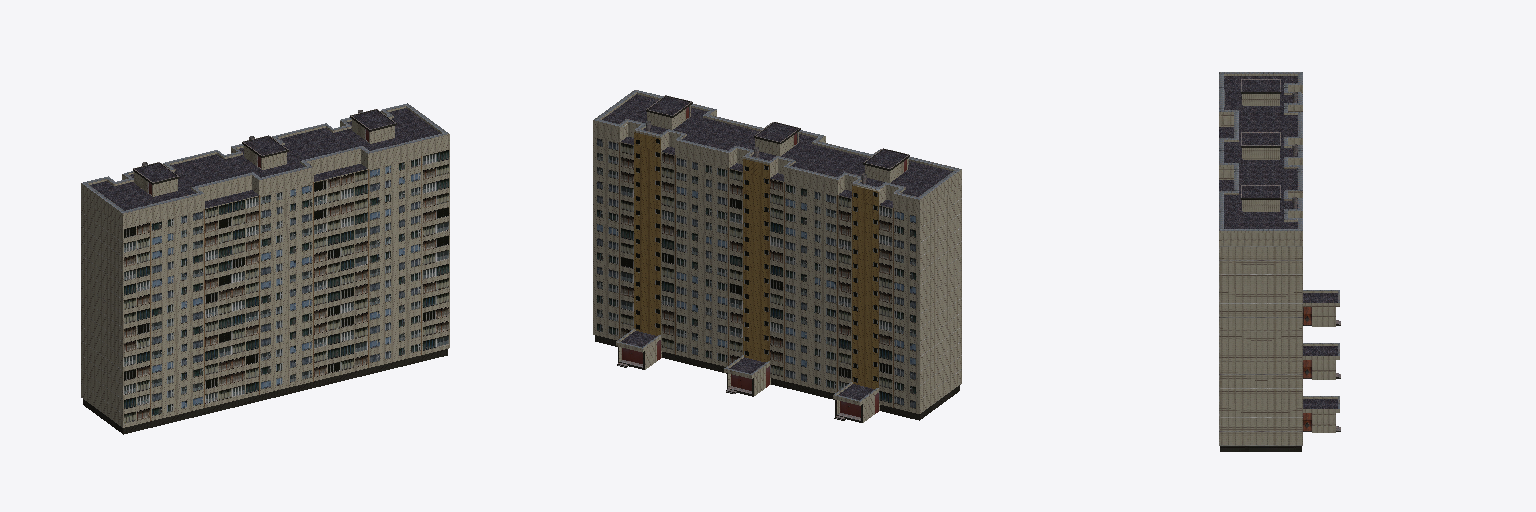
3 renders of one model, left to right at view 1: azimuth 30°, elevation 25°; view 2: azimuth 150°, elevation 25°; view 3: azimuth 270°, elevation 25°, orthographic.
Parts seen in each view (by area): view 1: panelndom_14a; view 2: panelndom_14a; view 3: panelndom_14a.
Part boxes in pixels (left/top/right/bottom): panelndom_14a: left=81, top=103, right=449, bottom=434; panelndom_14a: left=593, top=90, right=961, bottom=422; panelndom_14a: left=1219, top=72, right=1340, bottom=451.
Bounding box in the file's own units: 72.03 × 49.31 × 23.19.
20 materials, 20 textured.